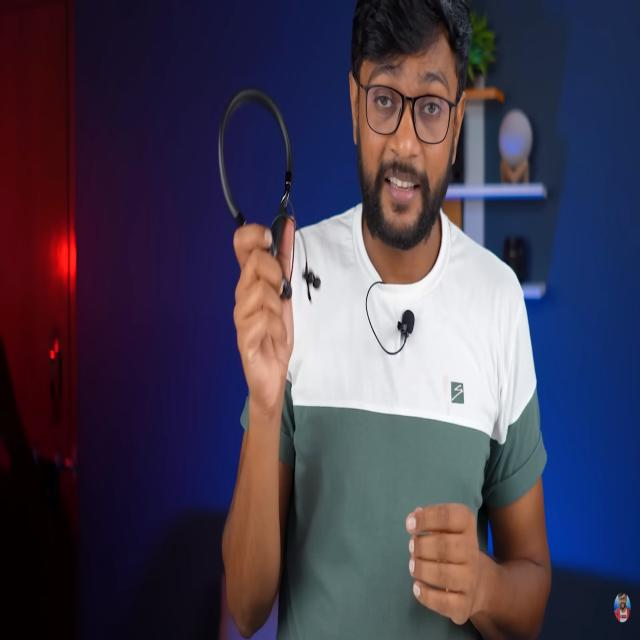Neckband: (218, 85, 320, 307)
